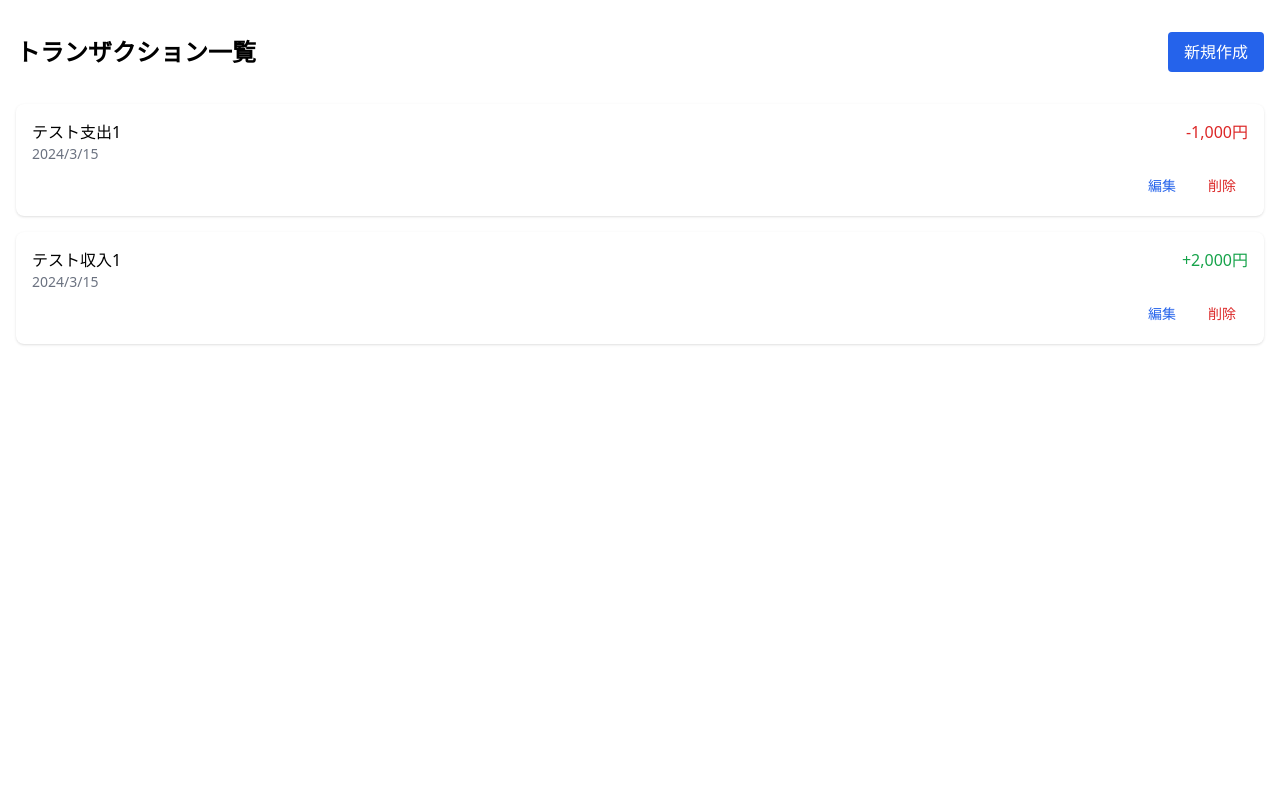
TransactionsPage › 新規作成ボタンをクリックするとフォームが表示されること
The image size is (1280, 800).
Click the button "新規作成".
click(1216, 52)  # box [1168, 32, 1264, 72]
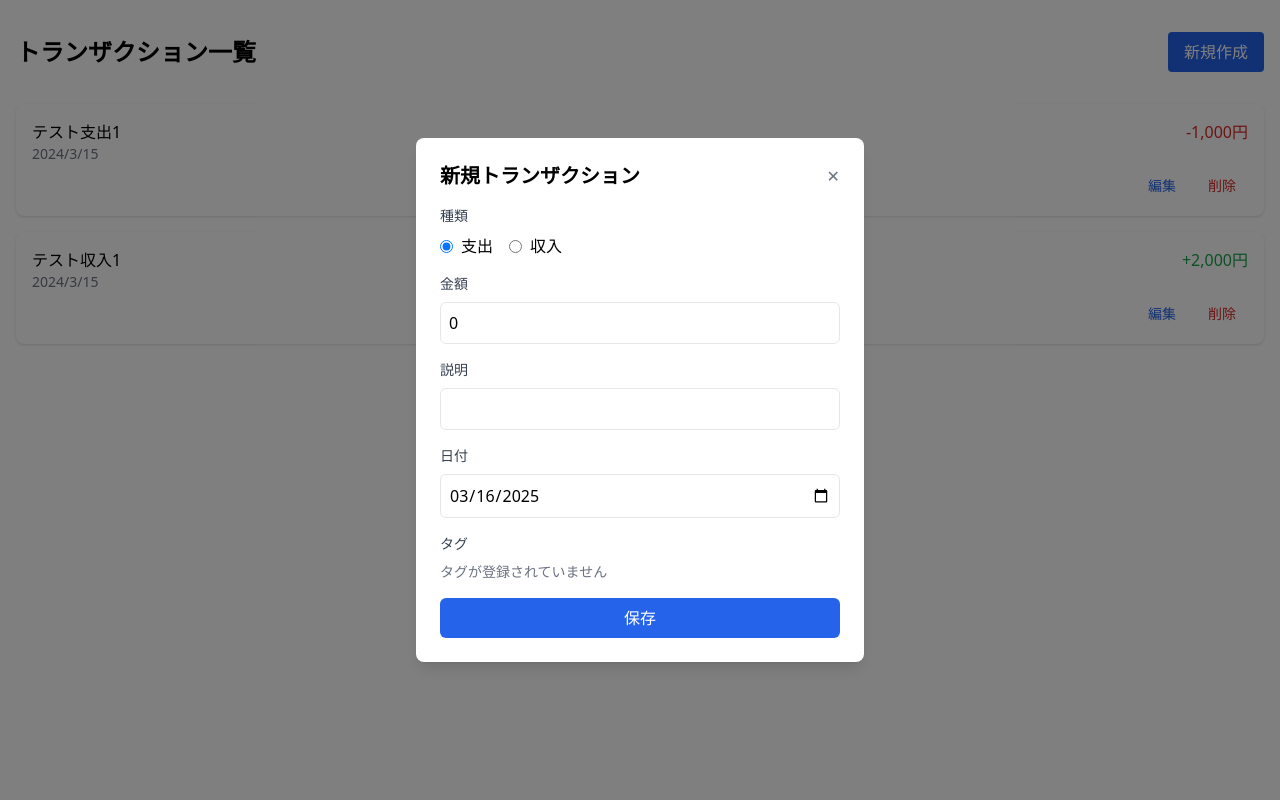
Expected: the heading "新規トランザクション" is shown, [440, 162, 640, 190]
